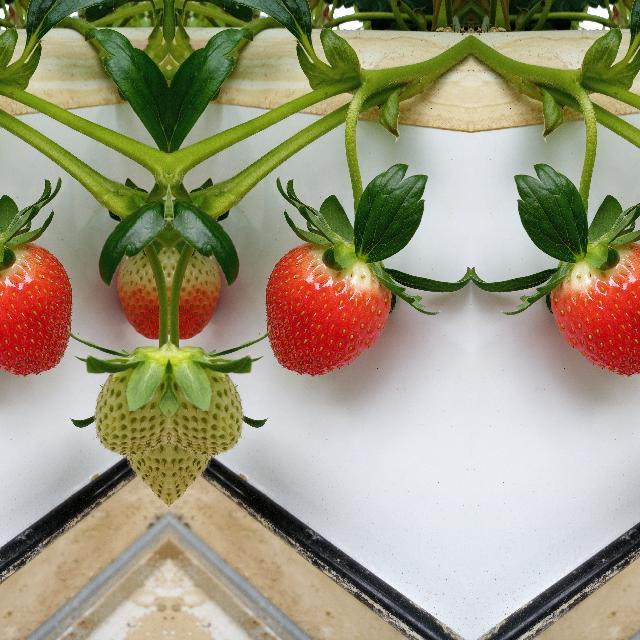Health_100: (264, 242, 392, 376), (549, 241, 640, 376), (0, 241, 71, 376)
Health_25: (168, 363, 266, 459), (70, 363, 168, 459)
Health_75: (168, 213, 222, 337), (114, 213, 168, 337)
